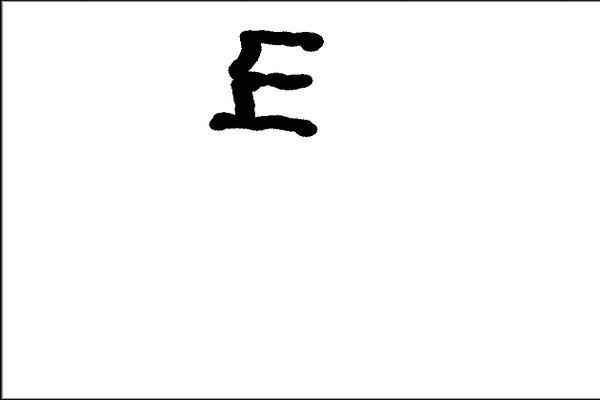E: (204, 24, 326, 141)
